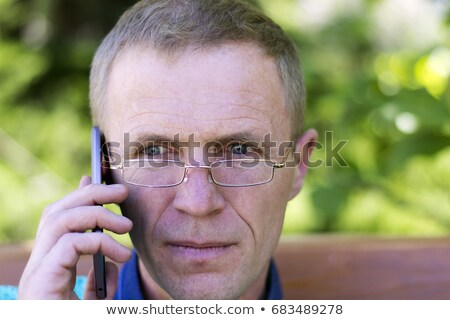phone: (55, 122, 129, 295)
talk: (18, 108, 299, 306)
